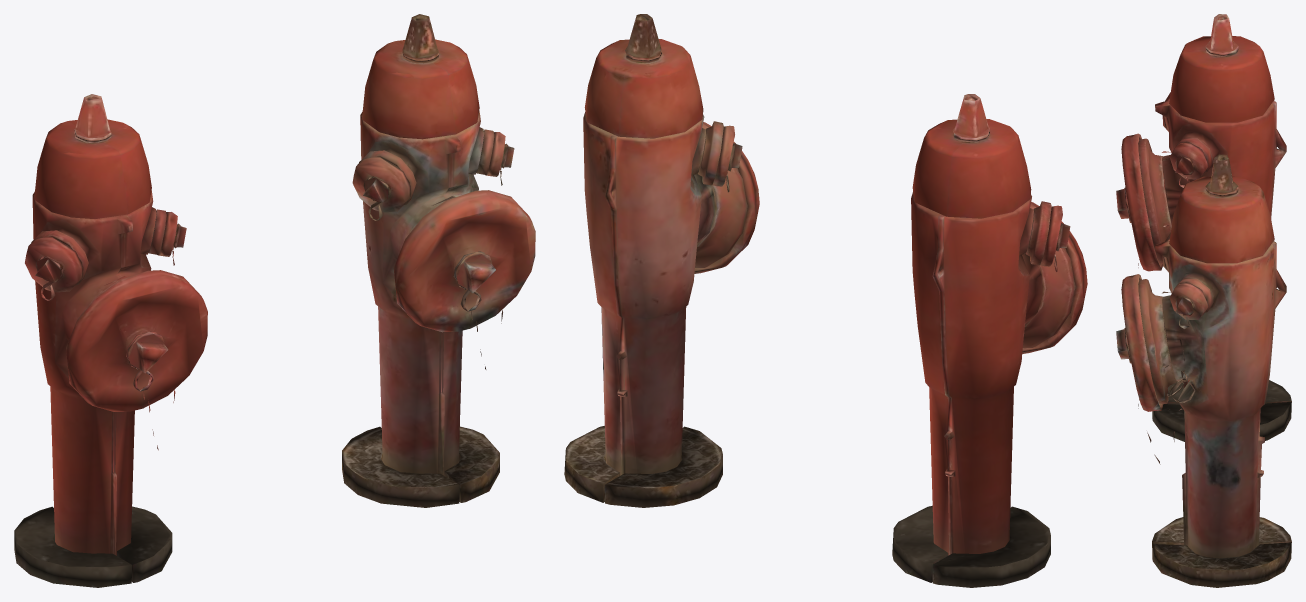
File: fire_hydrant.glb
3 views of the same model, side by side, from view 1: azimuth 30°, elevation 25°; view 2: azimuth 150°, elevation 25°; view 3: azimuth 270°, elevation 25° (orthographic). The views are drawn at different scales.
Visible parts, largest first — view 1: fire_hydrant, fire_hydrant_aged; view 2: fire_hydrant_aged, fire_hydrant; view 3: fire_hydrant_aged, fire_hydrant.
Boxes of the visible parts, x1,y1,x2,y2 form: fire_hydrant: (14,94,207,587); fire_hydrant_aged: (342,14,535,507); fire_hydrant_aged: (564,14,759,507); fire_hydrant: (892,94,1087,587); fire_hydrant_aged: (1116,154,1291,587); fire_hydrant: (1116,14,1291,441).
Size of the model in its own units: 0.8729 by 0.7992 by 0.3173.
2 materials, 2 textured.
